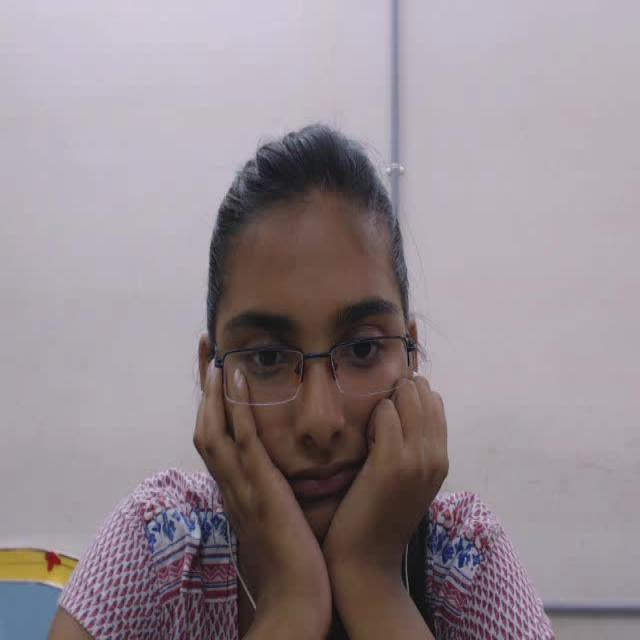Bored: (182, 97, 460, 587)
